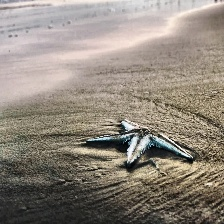starfish: (118, 119, 195, 171)
